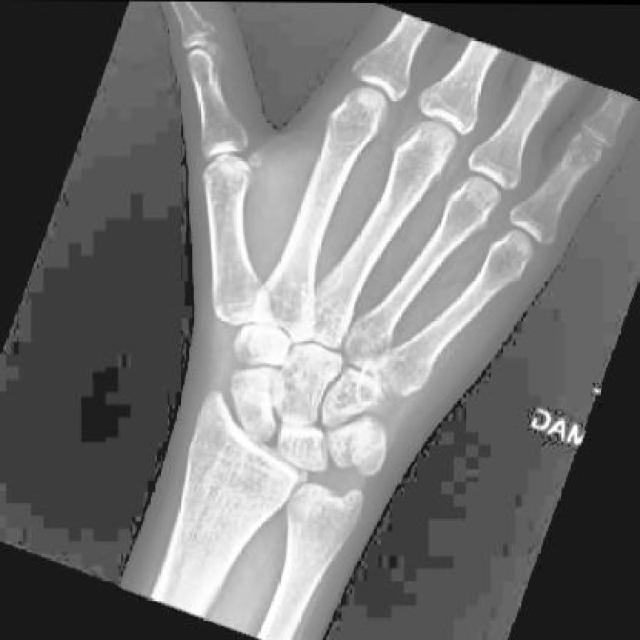Fracture: (226, 368, 294, 419)
